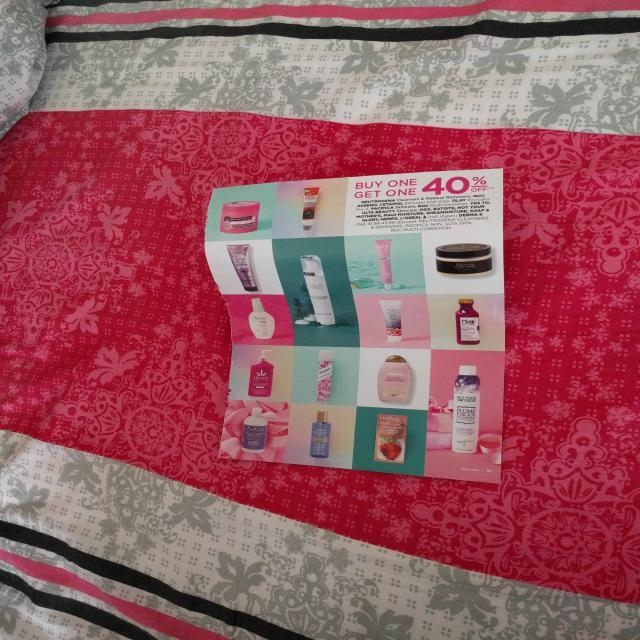document: (205, 169, 505, 484)
